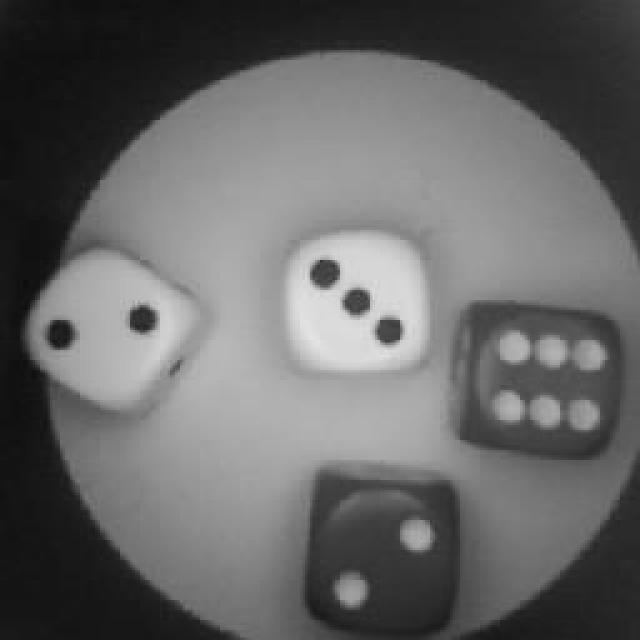dice_2: (22, 247, 190, 415), (302, 472, 462, 638)
dice_3: (287, 225, 435, 380)
dice_6: (462, 307, 618, 455)
